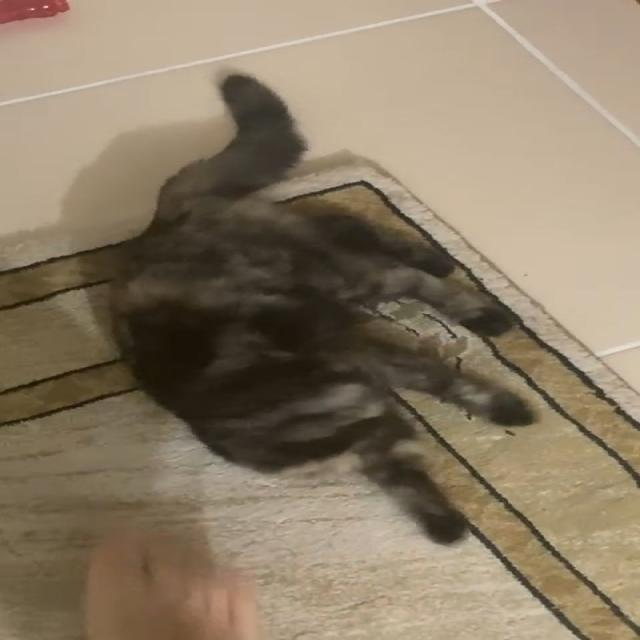authorized: (105, 71, 536, 546)
